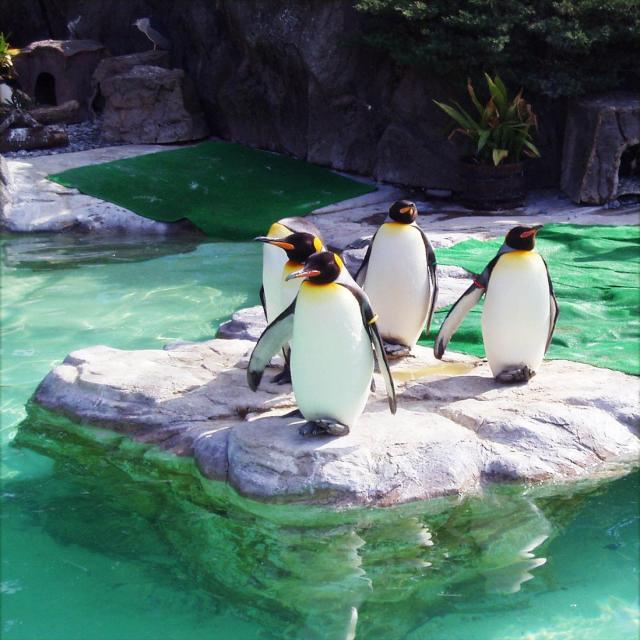Penguins: (285, 247, 376, 433), (474, 220, 560, 392), (247, 228, 335, 391), (364, 196, 436, 370)
